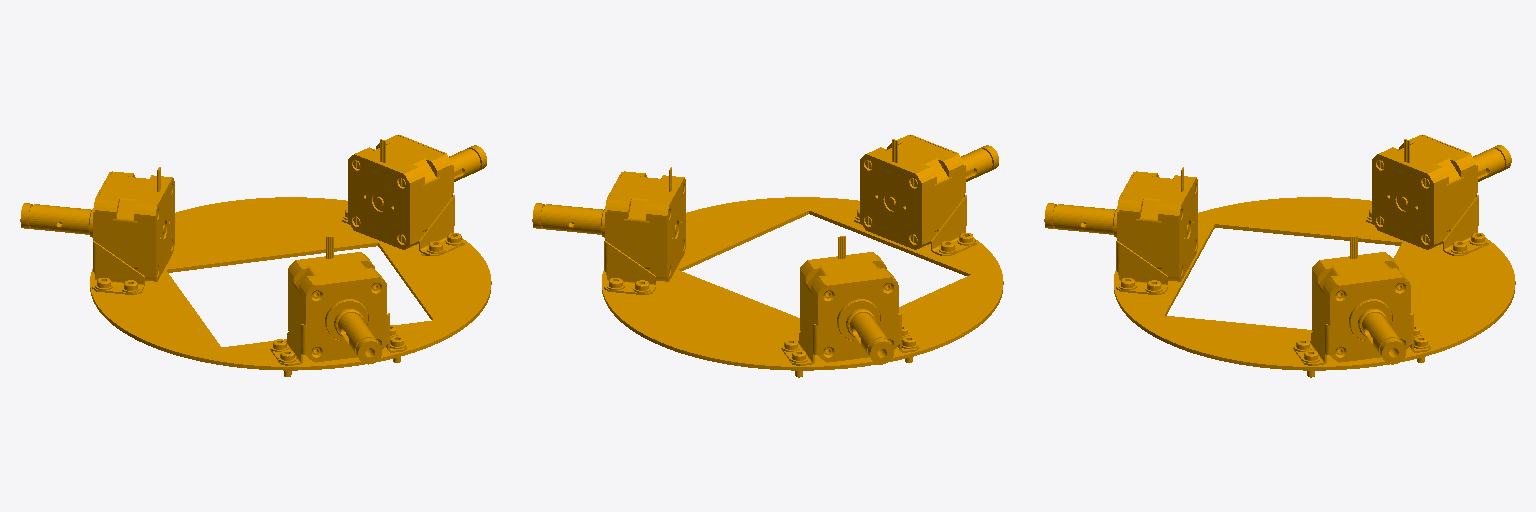
URDF robot description (myfirst):
<?xml version="1.0"?>
<robot name="myfirst">
  <link name="base_link">
    <visual>
      <geometry>
	      <mesh filename="package://david_sim/models/mobot.stl" scale=".1 .1 .1" />
      </geometry>
    </visual>
  </link>
</robot>

--- Render facts (derived) ---
Views: 3 orthographic renders of the robot side by side, from view 1: azimuth 30°, elevation 25°; view 2: azimuth 150°, elevation 25°; view 3: azimuth 270°, elevation 25°.
Model myfirst with 1 links and 0 joints (none), rooted at base_link, posed all joints at 0.
Visible links, largest first — view 1: base_link; view 2: base_link; view 3: base_link.
Boxes of the visible links, <box> form: base_link: <box>20,135,491,376</box>; base_link: <box>532,135,1003,377</box>; base_link: <box>1044,135,1515,377</box>.
Bounding box of the posed robot: 2.37 × 2.34 × 0.6322 m (x, y, z).
1 mesh visuals loaded from 1 distinct referenced files (1 binary STL).
